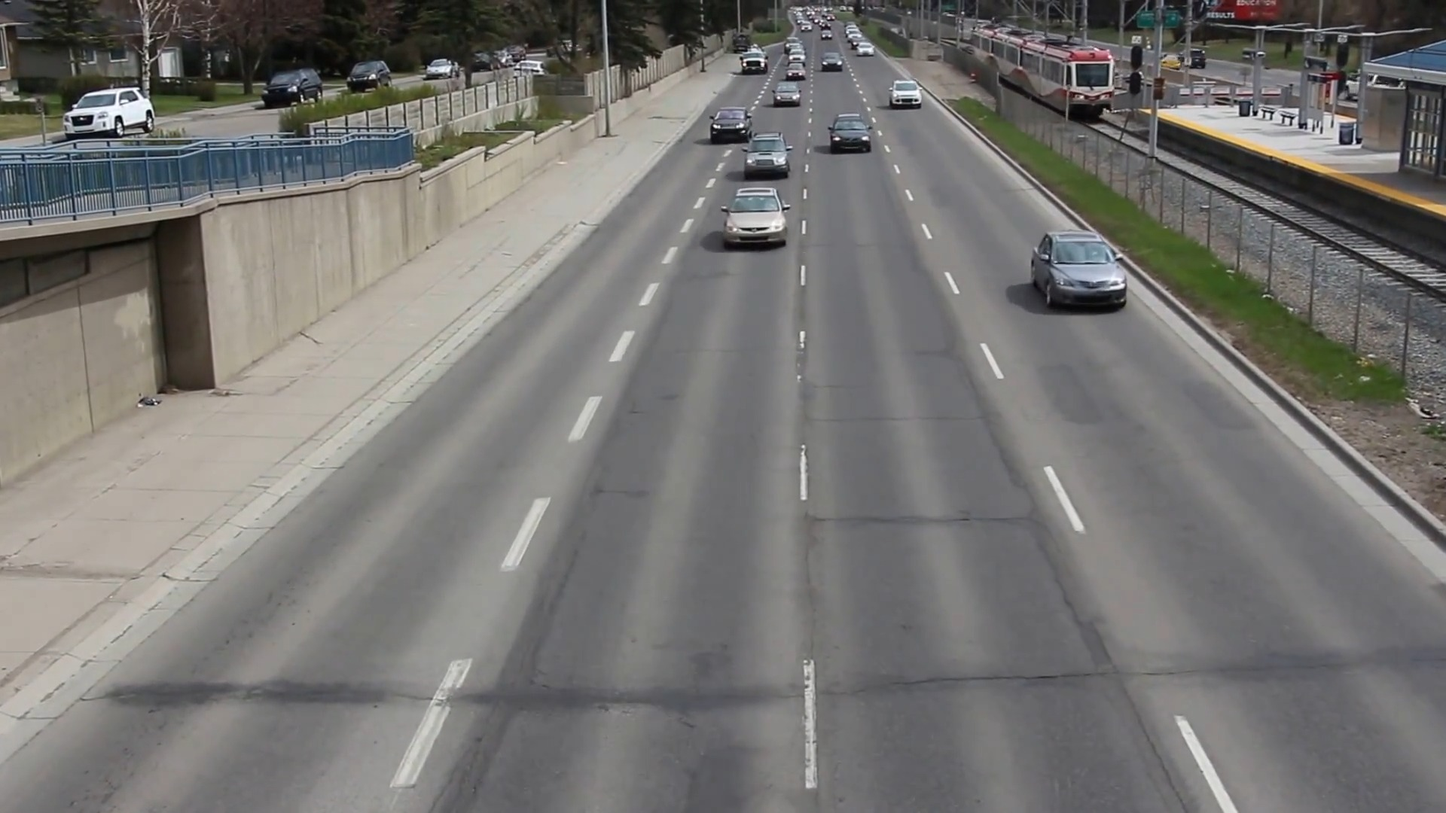car: (1030, 228, 1129, 313), (720, 185, 789, 250), (825, 113, 872, 157), (740, 140, 790, 181)
